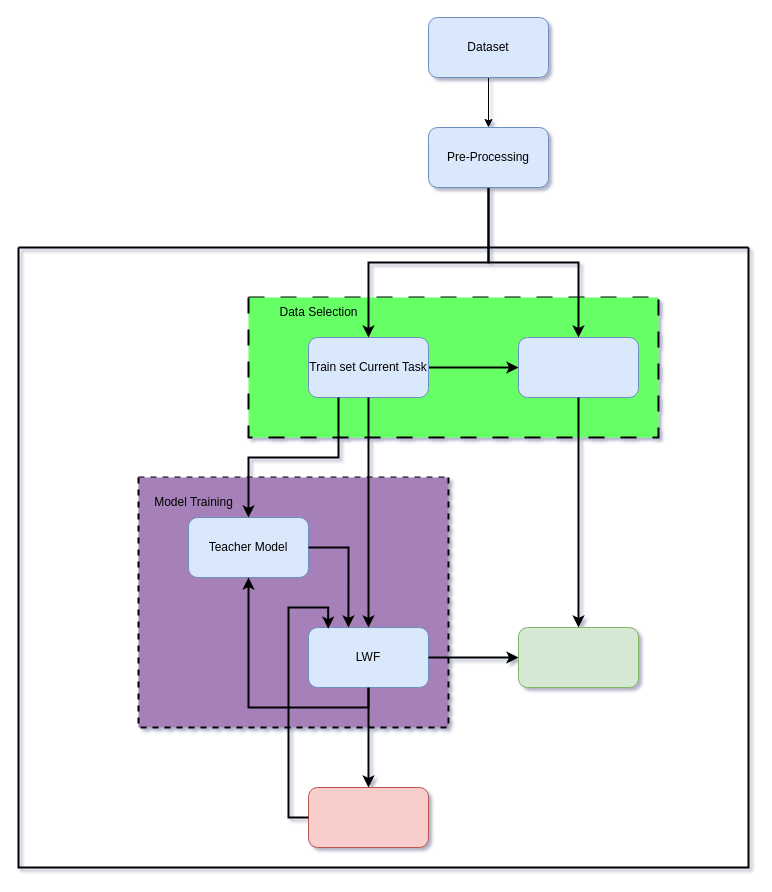
Image size: 772x892. Some labels were removed from this diagram. Each missing label, with the centre of its shape:
Evaluation: (x=578, y=657)
FC layer Expanding: (x=368, y=817)
Test Set: (x=578, y=367)
